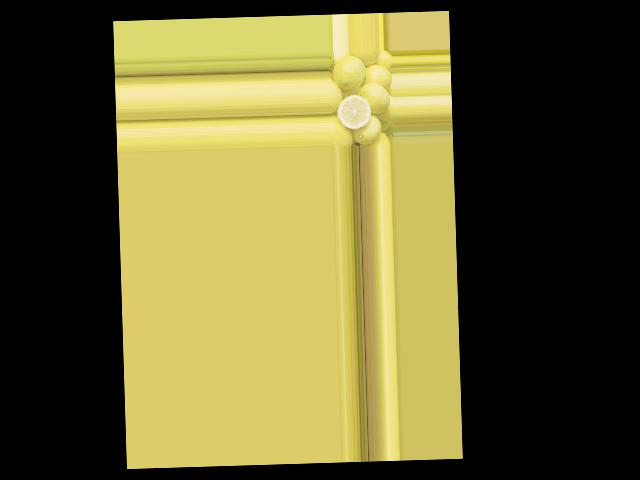lemon: (353, 117, 381, 143)
